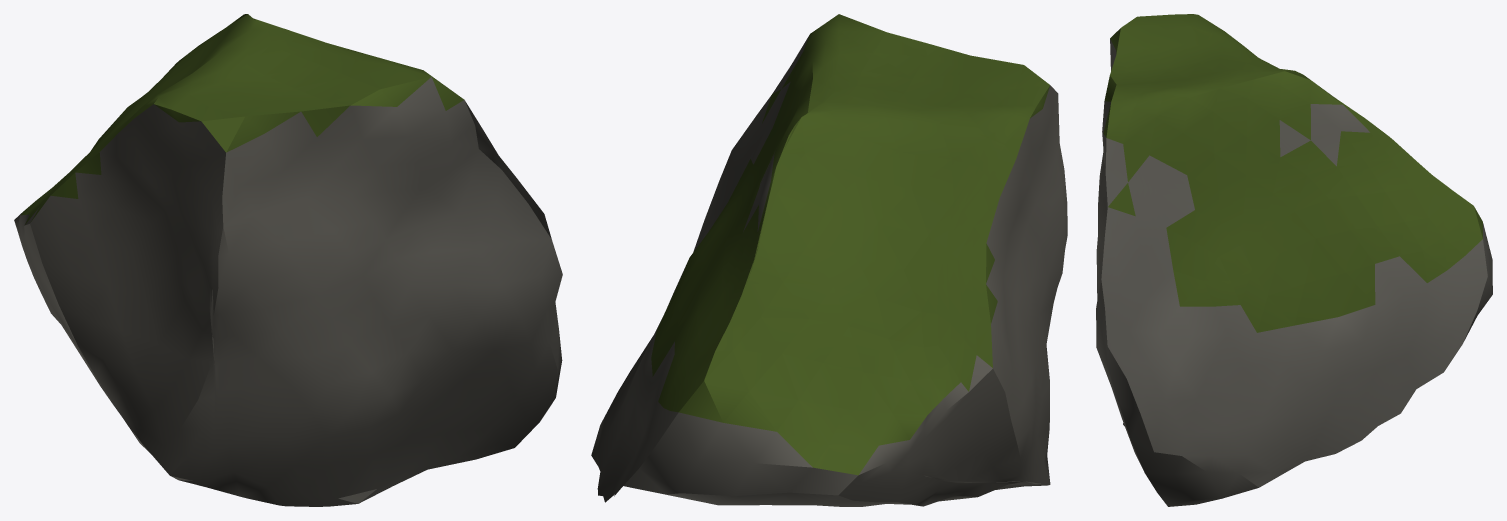
File: rock_a.glb
3 views of the same model, side by side, from view 1: azimuth 30°, elevation 25°; view 2: azimuth 150°, elevation 25°; view 3: azimuth 270°, elevation 25° (orthographic). The views are drawn at different scales.
Parts seen in each view (by area): view 1: LOD0; view 2: LOD0; view 3: LOD0.
Part boxes in pixels (bbox=[...]): LOD0: bbox=[14, 14, 562, 506]; LOD0: bbox=[591, 14, 1067, 506]; LOD0: bbox=[1096, 14, 1492, 506].
Size of what is drawn, in the model's own units: 1.58 by 1.5 by 1.51.
